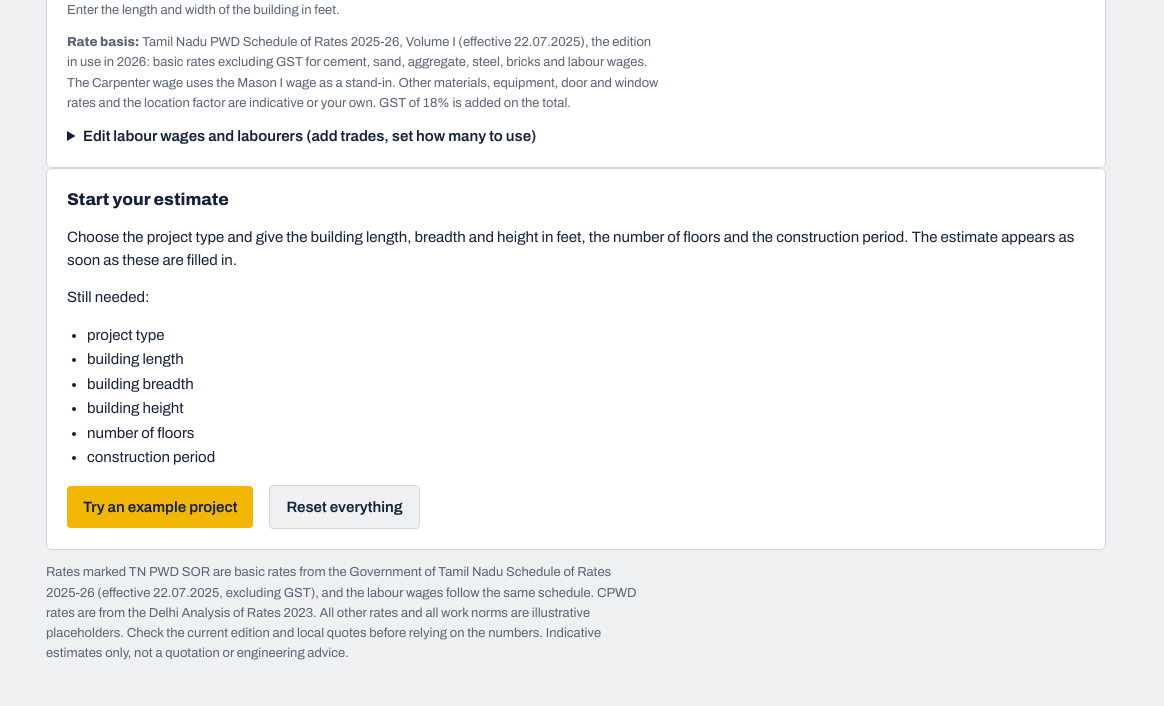
App › a land price adds land cost cards
The image size is (1164, 706).
(page scrolled)
Click the button "Try an example project": [160, 507] box [67,486,253,528]
(page scrolled)
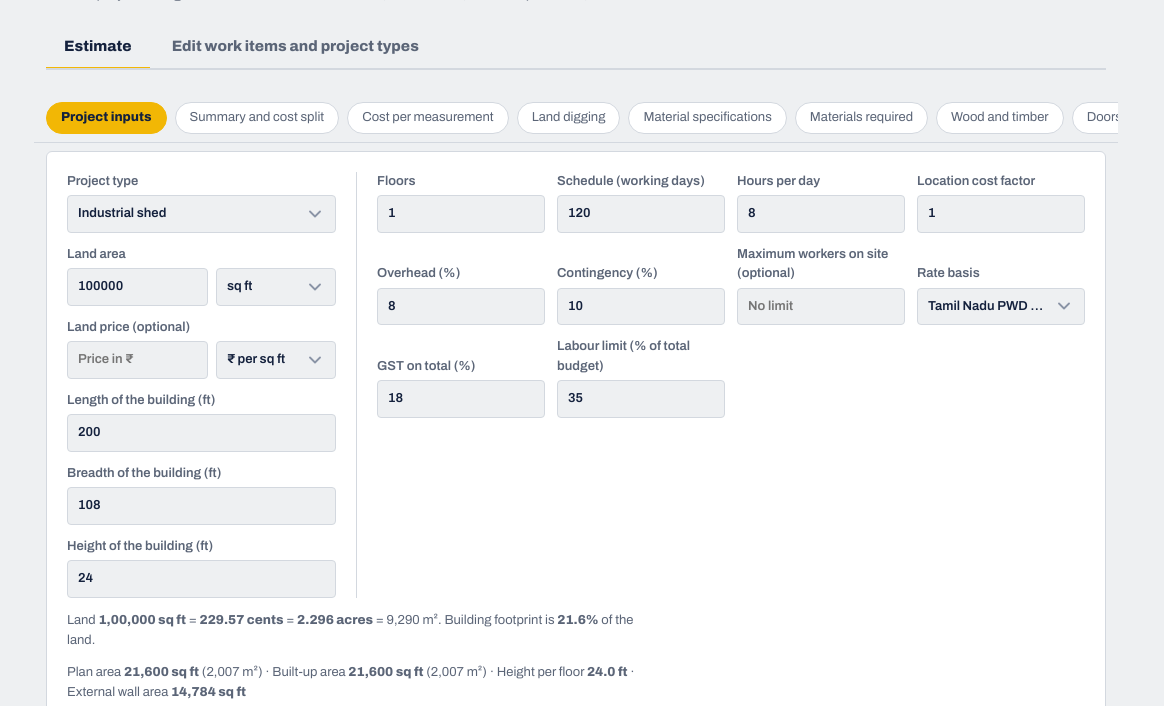
In the number field named "Land price value": [138, 360] box [67,341,208,378], type "2000"
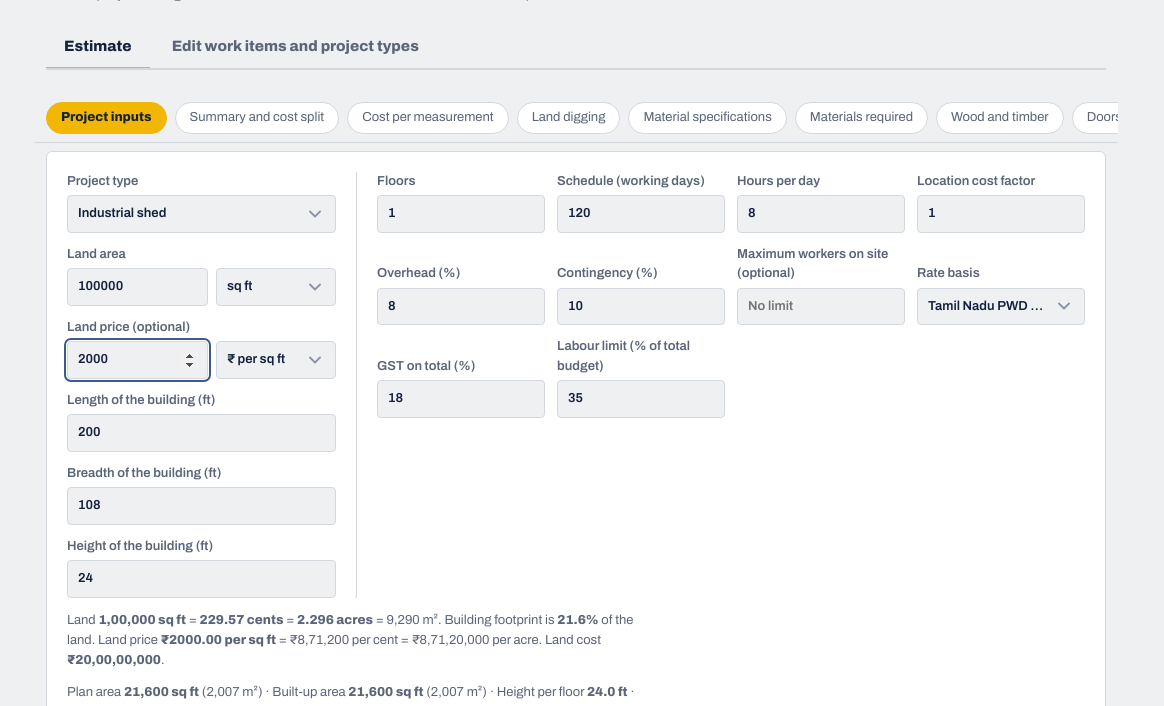
Now the element with id "landeq" shows "₹20,00,00,000", box [67,610,663,670]
